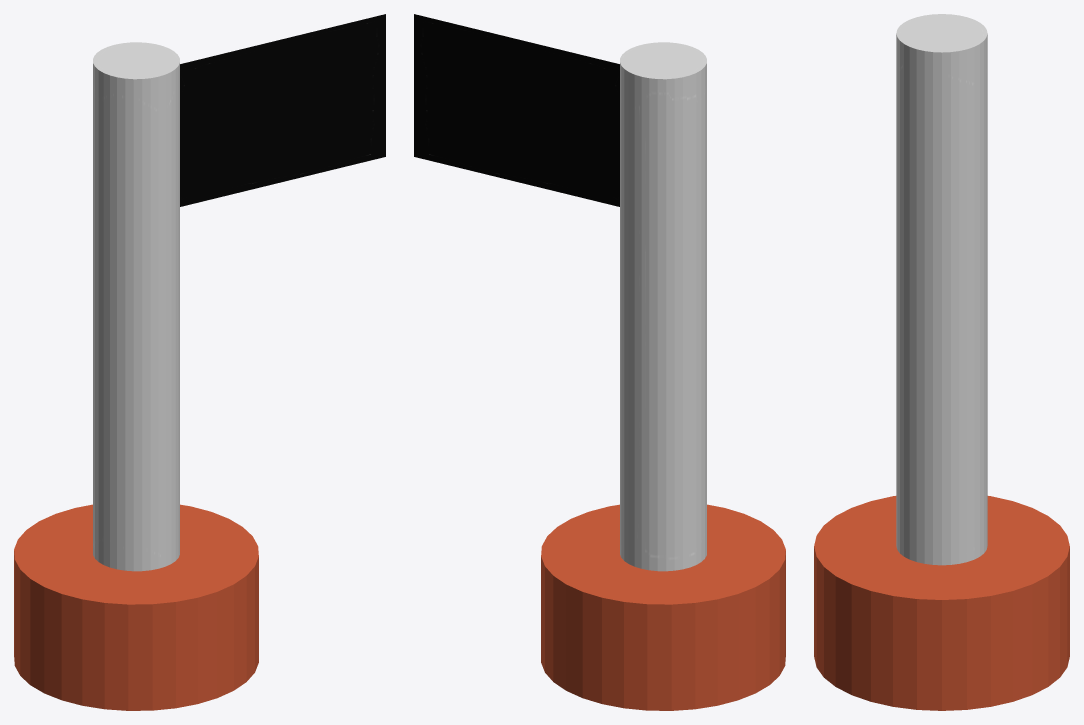
Rendered from goal.obj.
3 renders of one model, left to right at view 1: azimuth 30°, elevation 25°; view 2: azimuth 150°, elevation 25°; view 3: azimuth 270°, elevation 25°, orthographic. The views are drawn at different scales.
Visible parts, largest first — view 1: 平面; view 2: 平面; view 3: 平面.
Boxes of the visible parts, bbox=[...] form: 平面: bbox=[14, 14, 385, 710]; 平面: bbox=[414, 14, 785, 710]; 平面: bbox=[814, 14, 1069, 710].
Size of the model in its own units: 3.35 by 5.38 by 2.
1 material, 1 textured.
